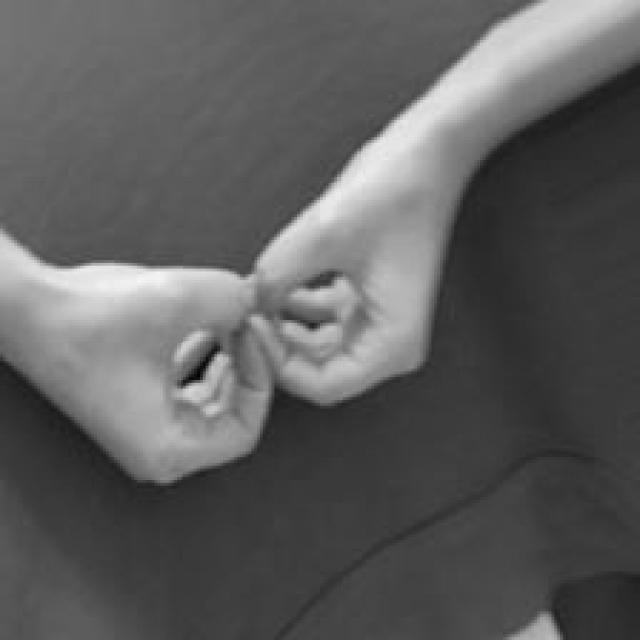B: (2, 132, 462, 488)
